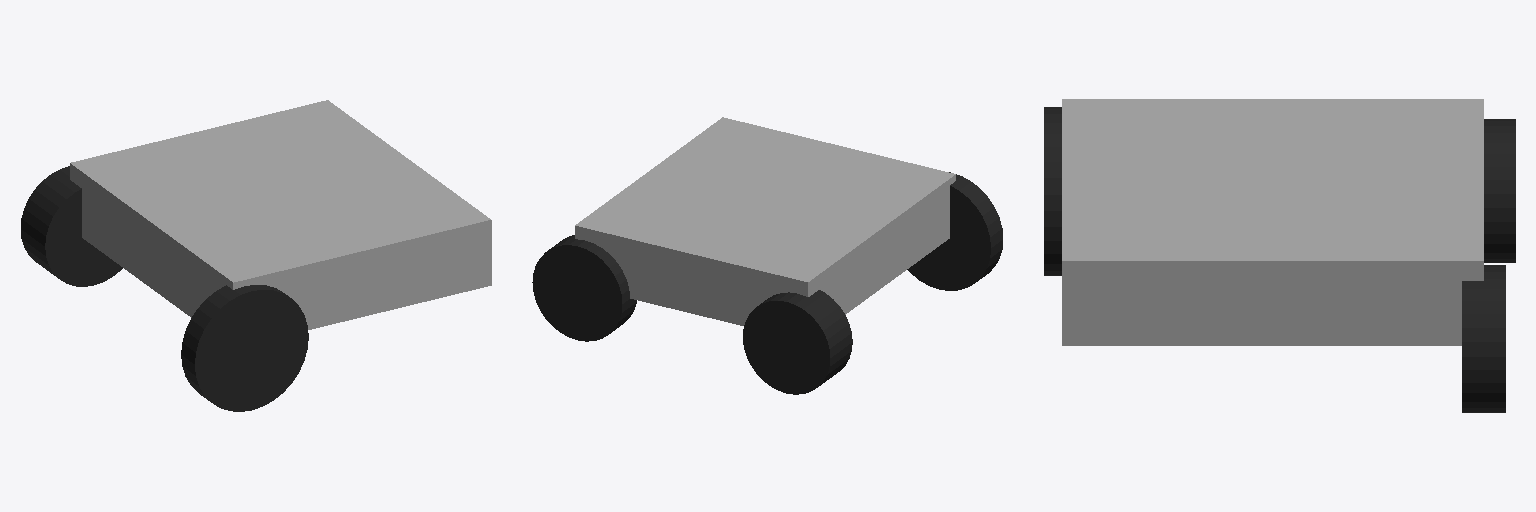
robot.urdf — evolved_robot:
<?xml version="1.0"?>
<robot name="evolved_robot">
  <material name="metal">
    <color rgba="0.7 0.7 0.7 1.0"/>
  </material>
  <material name="plastic">
    <color rgba="0.3 0.3 0.9 1.0"/>
  </material>
  <material name="rubber">
    <color rgba="0.1 0.1 0.1 1.0"/>
  </material>
  <material name="red">
    <color rgba="1.0 0.0 0.0 1.0"/>
  </material>
  <material name="wheel_material">
    <color rgba="0.2 0.2 0.2 1.0"/>
  </material>
  <link name="base_link">
    <visual>
      <geometry><box size="0.44746861283657113 0.4915286942678372 0.10917641224025697"/></geometry>
      <material name="metal"/>
    </visual>
    <collision>
      <geometry><box size="0.44746861283657113 0.4915286942678372 0.10917641224025697"/></geometry>
    </collision>
    <inertial>
      <mass value="5.0"/>
      <inertia ixx="0.21126662189858292" ixy="0" ixz="0" 
               iyy="0.17678970705294975" iyz="0" 
               izz="0.3681905139687751"/>
    </inertial>
  </link>
  <link name="link1">
    <visual>
      <geometry>
        <cylinder radius="0.0862927089160751" length="0.0514543559049874"/>
      </geometry>
      <material name="wheel_material"/>
    </visual>
    <collision>
      <geometry>
        <cylinder radius="0.0862927089160751" length="0.0514543559049874"/>
      </geometry>
    </collision>
    <inertial>
      <mass value="1.0"/>
      <inertia ixx="0.0020822371314850427" ixy="0" ixz="0" 
               iyy="0.0020822371314850427" iyz="0" 
               izz="0.0037232158060372337"/>
    </inertial>
  </link>
  <joint name="joint1" type="continuous">
    <parent link="base_link"/>
    <child link="link1"/>
    <origin xyz="0.20373430641828558 0.2457643471339186 -0.054588206120128484" rpy="1.5708 0 0"/>
    <axis xyz="0 1 0"/>
    <dynamics damping="0.7762428993012911" friction="0.1"/>
  </joint>
  <link name="link2">
    <visual>
      <geometry>
        <cylinder radius="0.08407643651479826" length="0.07410620414702414"/>
      </geometry>
      <material name="wheel_material"/>
    </visual>
    <collision>
      <geometry>
        <cylinder radius="0.08407643651479826" length="0.07410620414702414"/>
      </geometry>
    </collision>
    <inertial>
      <mass value="1.0"/>
      <inertia ixx="0.0022248559186800938" ixy="0" ixz="0" 
               iyy="0.0022248559186800938" iyz="0" 
               izz="0.0035344235885134516"/>
    </inertial>
  </link>
  <joint name="joint2" type="continuous">
    <parent link="base_link"/>
    <child link="link2"/>
    <origin xyz="-0.20373430641828558 0.2457643471339186 -0.054588206120128484" rpy="1.5708 0 0"/>
    <axis xyz="0 1 0"/>
    <dynamics damping="0.778149546484746" friction="0.1"/>
  </joint>
  <link name="link3">
    <visual>
      <geometry>
        <cylinder radius="0.09883865301051092" length="0.041259720650463134"/>
      </geometry>
      <material name="wheel_material"/>
    </visual>
    <collision>
      <geometry>
        <cylinder radius="0.09883865301051092" length="0.041259720650463134"/>
      </geometry>
    </collision>
    <inertial>
      <mass value="1.0"/>
      <inertia ixx="0.002584133544579233" ixy="0" ixz="0" 
               iyy="0.002584133544579233" iyz="0" 
               izz="0.00488453966446609"/>
    </inertial>
  </link>
  <joint name="joint3" type="continuous">
    <parent link="base_link"/>
    <child link="link3"/>
    <origin xyz="-0.20373430641828558 -0.2457643471339186 -0.054588206120128484" rpy="1.5708 0 0"/>
    <axis xyz="0 1 0"/>
    <dynamics damping="0.8575088415712022" friction="0.1"/>
  </joint>
</robot>

--- Render facts (derived) ---
Views: 3 orthographic renders of the robot side by side, from view 1: azimuth 30°, elevation 25°; view 2: azimuth 150°, elevation 25°; view 3: azimuth 270°, elevation 25°.
Model evolved_robot with 4 links and 3 joints (3 continuous), rooted at base_link, posed every joint at zero.
Links seen in each view (by area): view 1: base_link, link3, link2; view 2: base_link, link2, link1, link3; view 3: base_link, link1, link2, link3.
Link boxes in pixels (x1,y1,x2,y2): base_link: [70, 100, 491, 329]; link3: [181, 285, 308, 411]; link2: [21, 166, 122, 286]; base_link: [575, 117, 955, 325]; link2: [743, 290, 852, 394]; link1: [532, 235, 636, 341]; link3: [907, 172, 1002, 290]; base_link: [1062, 99, 1483, 345]; link1: [1462, 265, 1505, 412]; link2: [1484, 119, 1515, 262]; link3: [1044, 107, 1061, 275].
Size in the robot's own frame: 0.5926 by 0.5492 by 0.208 metres.
Geometry: primitives only (box / cylinder / sphere), no mesh files.